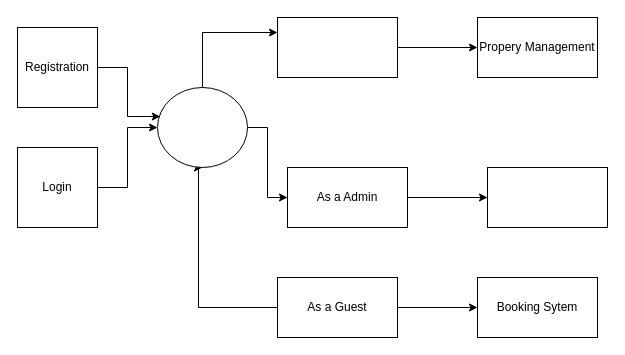
Image size: 625x355. Some labels were removed from this diagram. Here are the shapes that lost their labels. From the top down, the centre of each, then its label:
the point at 337,47: As a Host
the point at 202,127: Aunthenthicated
the point at 547,197: Admin Dashboard
